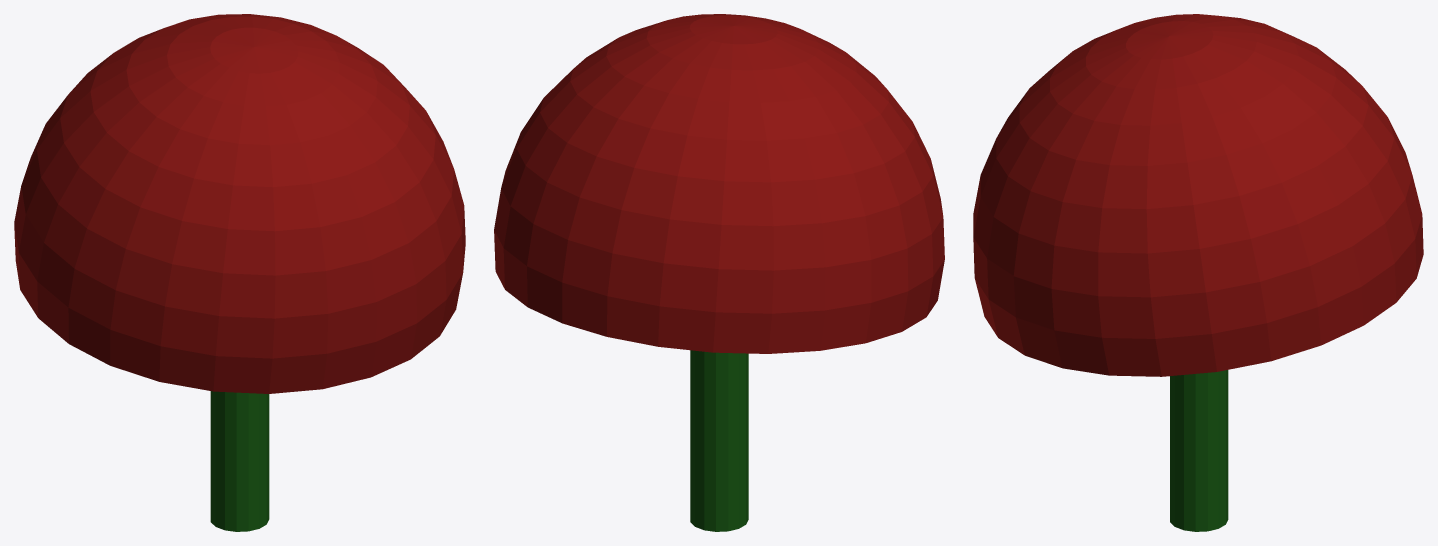
File: mushroom.fbx
3 renders of one model, left to right at view 1: azimuth 30°, elevation 25°; view 2: azimuth 150°, elevation 25°; view 3: azimuth 270°, elevation 25°, orthographic.
Visible parts, largest first — view 1: Cylinder; view 2: Cylinder; view 3: Cylinder.
Part boxes in pixels (box(x1,y1,x2,y2)): Cylinder: box(14, 14, 465, 531); Cylinder: box(494, 14, 944, 531); Cylinder: box(973, 14, 1423, 531).
Bounding box in the file's own units: 1529 × 1806 × 1522.
